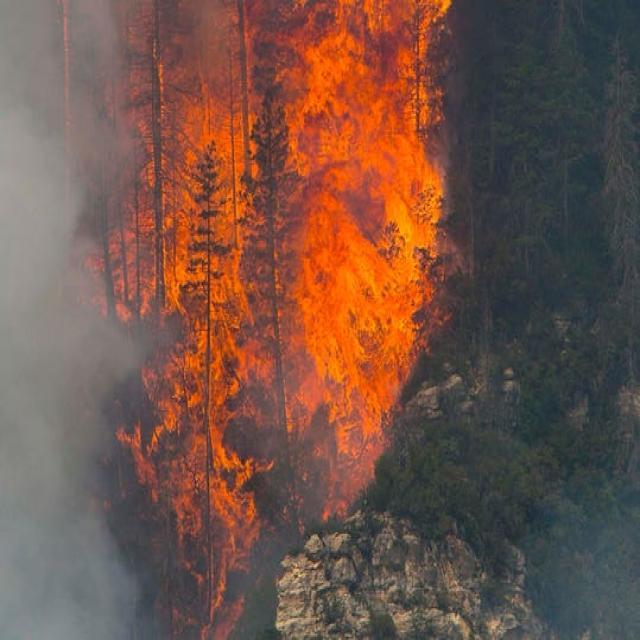Fire: (109, 0, 458, 638)
Smoke: (0, 0, 174, 638)
